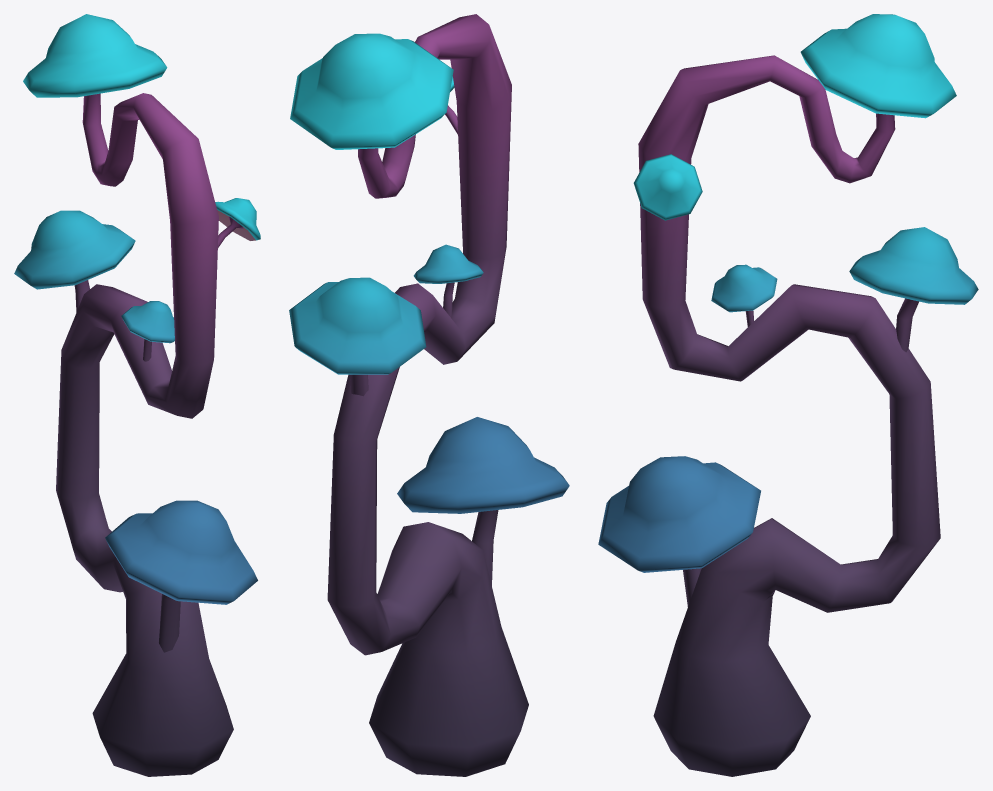
The model's file is mushrooms5.fbx.
3 renders of one model, left to right at view 1: azimuth 30°, elevation 25°; view 2: azimuth 150°, elevation 25°; view 3: azimuth 270°, elevation 25°, orthographic. The views are drawn at different scales.
Visible parts, largest first — view 1: mushrooms5; view 2: mushrooms5; view 3: mushrooms5.
Boxes of the visible parts, left/top/right/bottom form: mushrooms5: left=14, top=14, right=260, bottom=776; mushrooms5: left=289, top=14, right=569, bottom=776; mushrooms5: left=598, top=14, right=978, bottom=776.
Size of the model in its own units: 147 by 708 by 326.
Materials: 1 (1 with a texture image).
